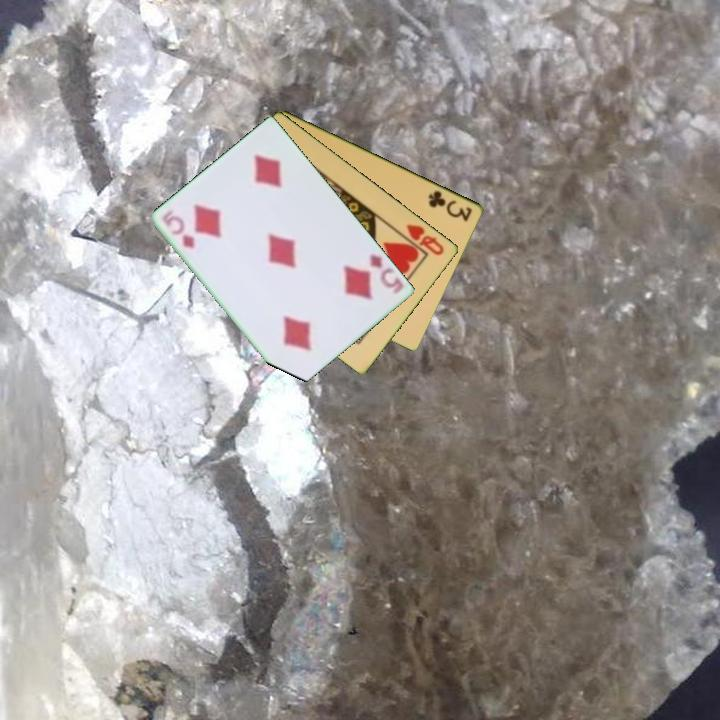3c: (425, 187, 476, 224)
5d: (366, 250, 407, 298), (166, 215, 198, 251)
Qh: (403, 220, 447, 258)
